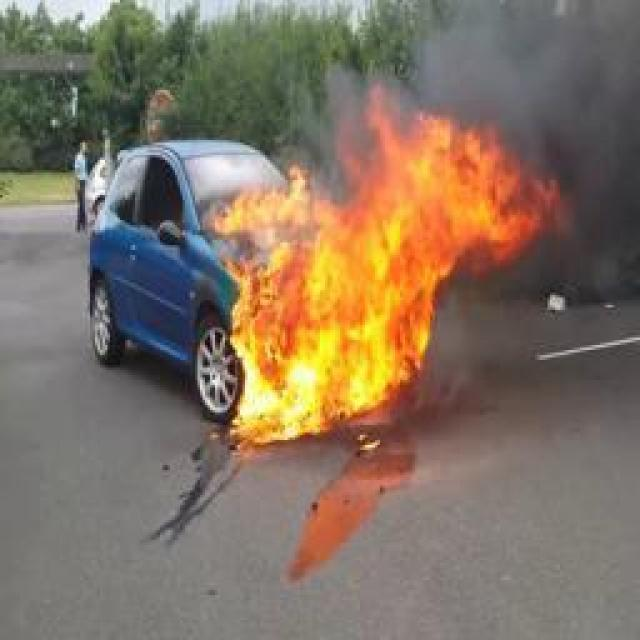Fire: (208, 81, 562, 444)
